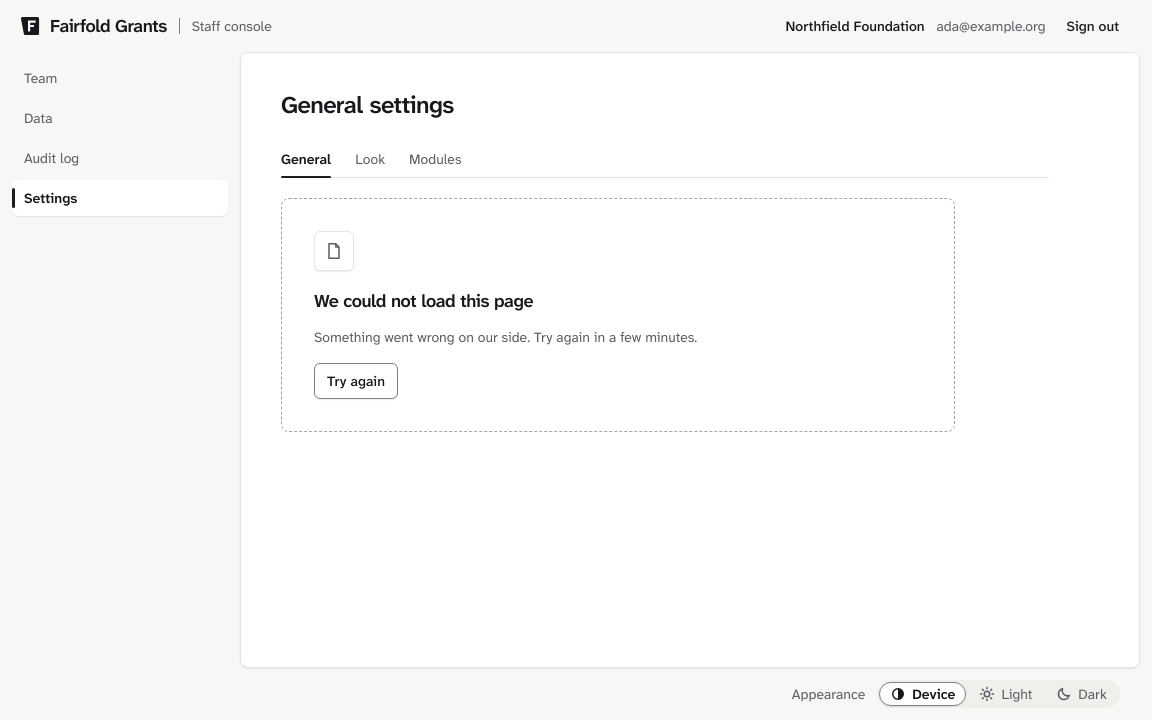
it: the general settings page › shows that it is loading, then the words for a failure and a way to try again
This screenshot has width=1152, height=720.
Expected: the heading "We could not load this page" is shown, [314,287,533,315]
Expected: the text "Something went wrong on our side. Try again in a few minutes." is shown, [314,327,697,347]
Click the button "Try again". click: coordinates (356, 381)
box: [314,363,398,399]
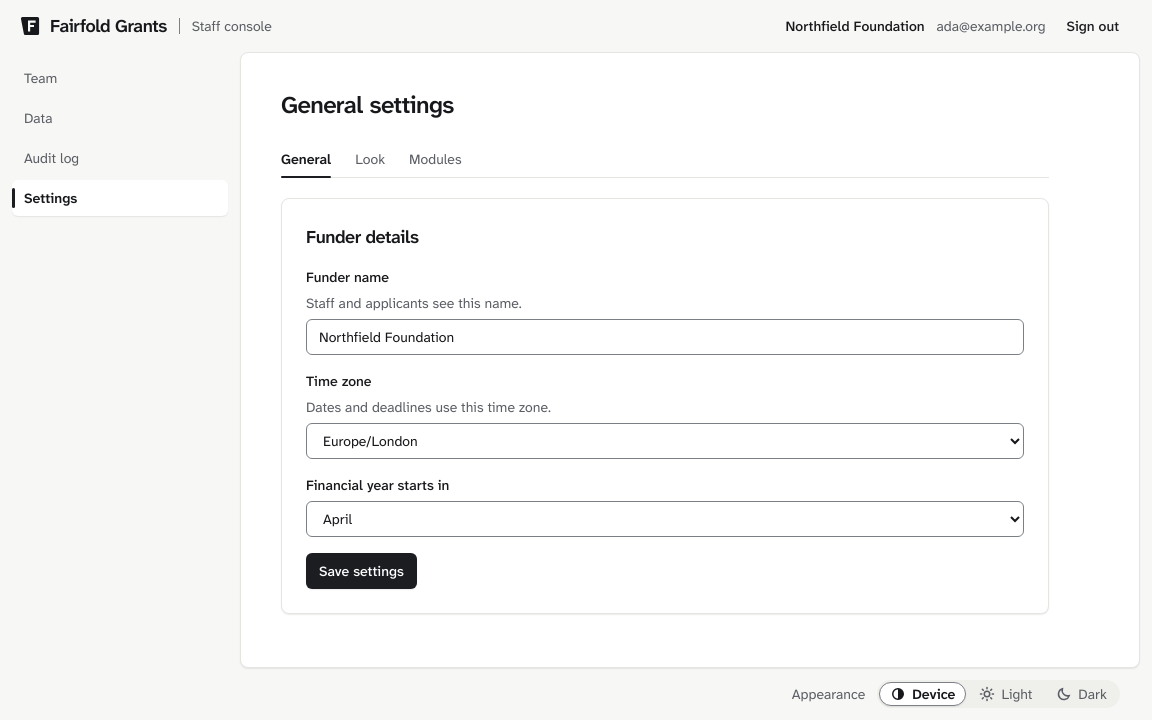
Now the field labelled "Funder name" is shown, box [306,319,1024,355]
